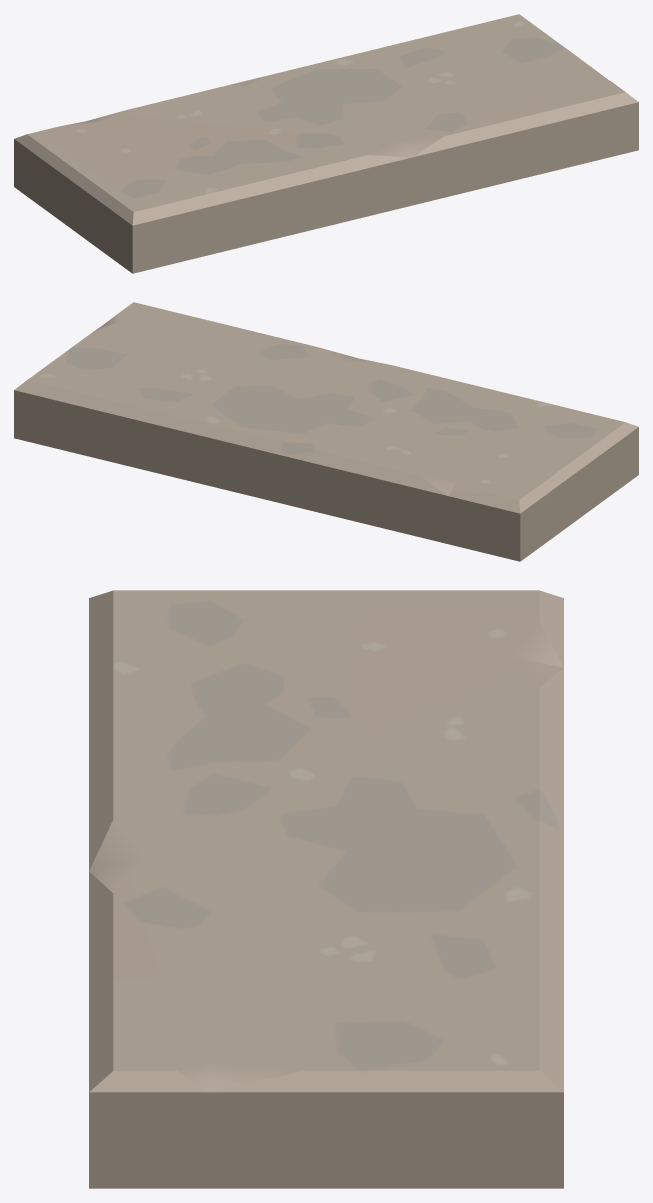
Rendered from SM_Prop_Gastank_Base_01.glb.
3 renders of one model, top to bottom at view 1: azimuth 30°, elevation 25°; view 2: azimuth 150°, elevation 25°; view 3: azimuth 270°, elevation 25°, orthographic. The views are drawn at different scales.
Parts seen in each view (by area): view 1: SM_Prop_Gastank_Base_01; view 2: SM_Prop_Gastank_Base_01; view 3: SM_Prop_Gastank_Base_01.
Part boxes in pixels (x1,y1,x2,y2): SM_Prop_Gastank_Base_01: [14, 14, 638, 273]; SM_Prop_Gastank_Base_01: [14, 302, 638, 561]; SM_Prop_Gastank_Base_01: [89, 590, 563, 1188].
Size of the model in its own units: 6 by 0.6274 by 2.43.
1 material, 1 textured.
